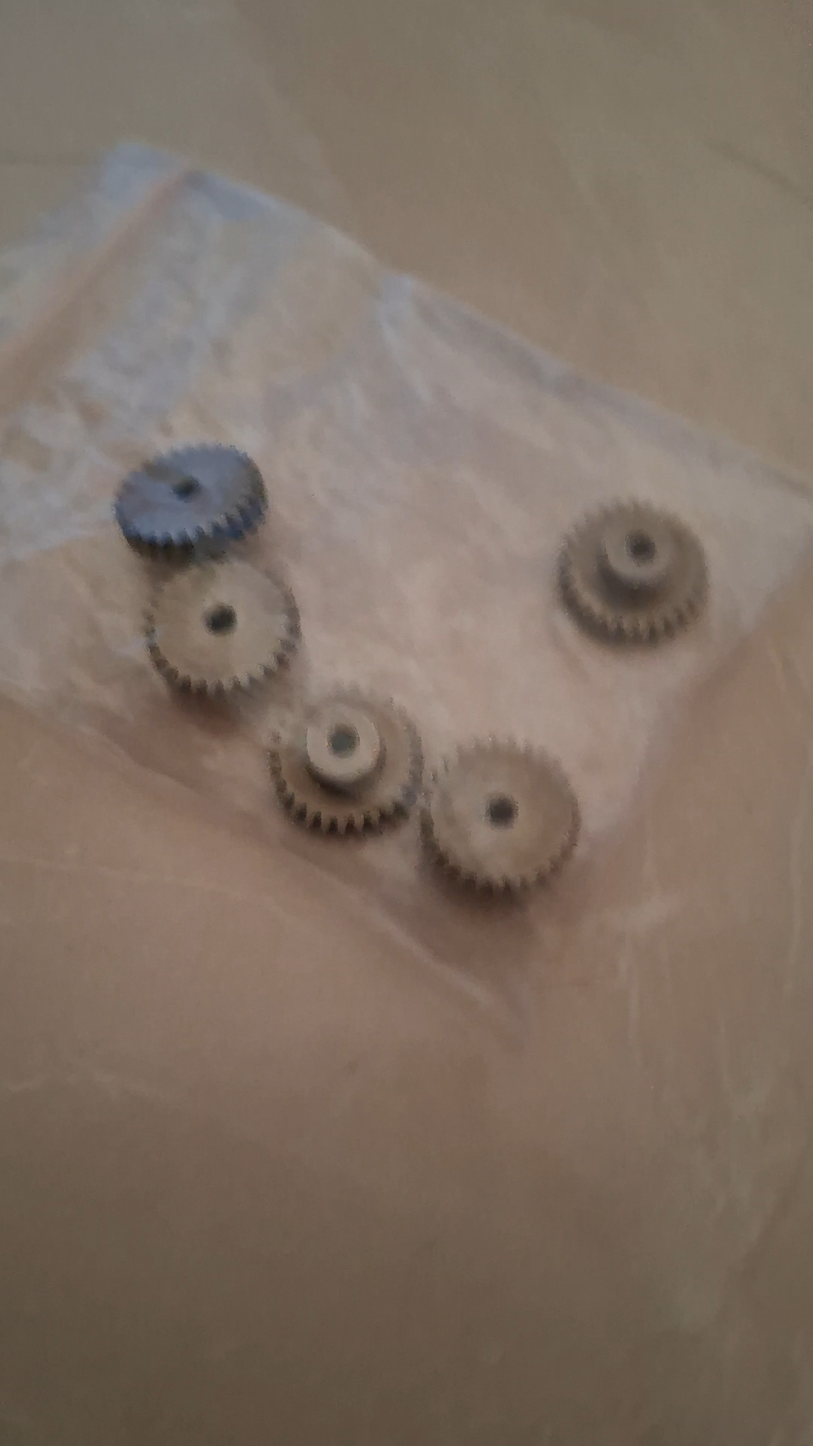spur gear: (424, 740, 579, 891), (269, 691, 422, 834), (146, 559, 298, 695), (559, 502, 706, 642), (114, 444, 266, 552)
